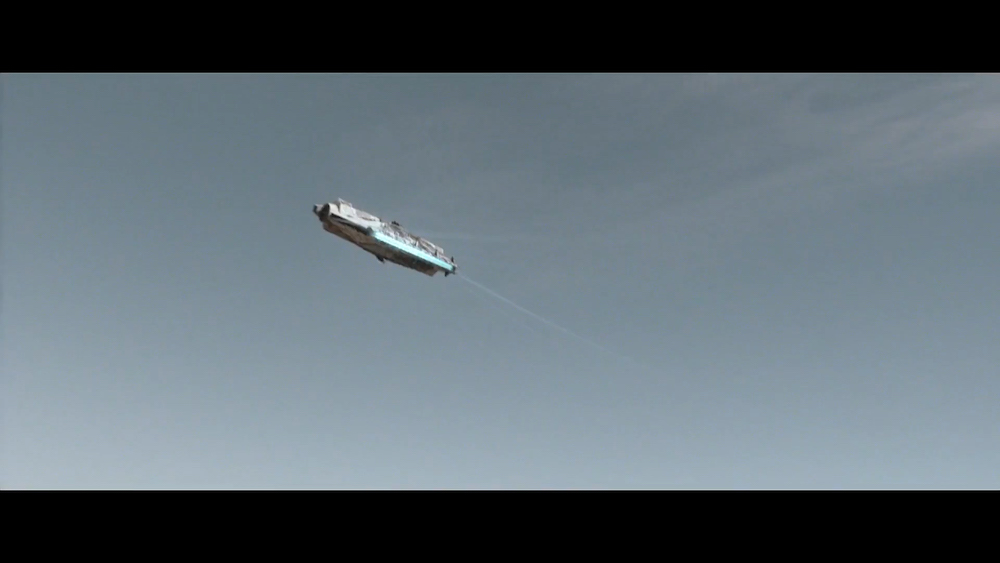Millennium Falcon: (310, 198, 460, 281)
